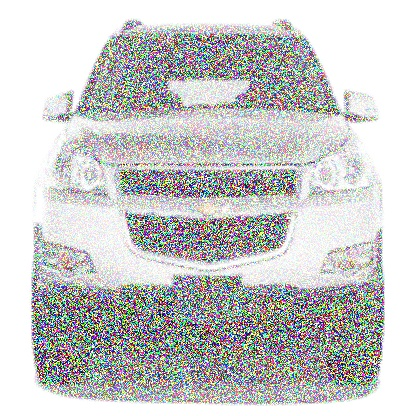Vehicle: (26, 14, 389, 395)
